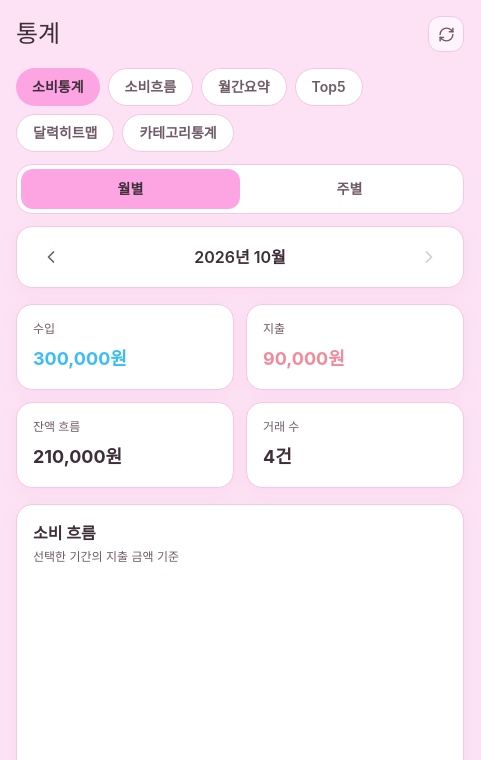
Test: StatisticsPage › switches to 월간요약 tab and shows summary data
Click the button "월간요약". click: [244, 87]
box: [201,68,287,106]
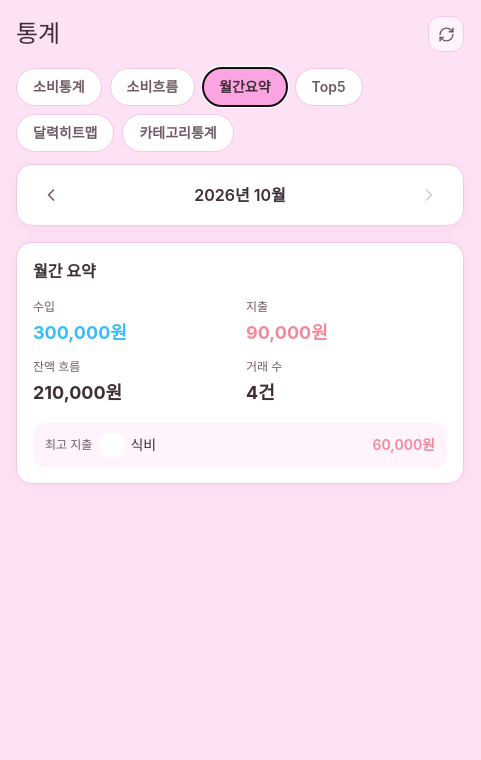
Expected: the text "거래 수" is shown, [246,359,282,374]
Result: the element named "월간 요약 카드" is shown at [16,242,464,484]
Result: the text "최고 지출" is shown at [45,437,92,453]
